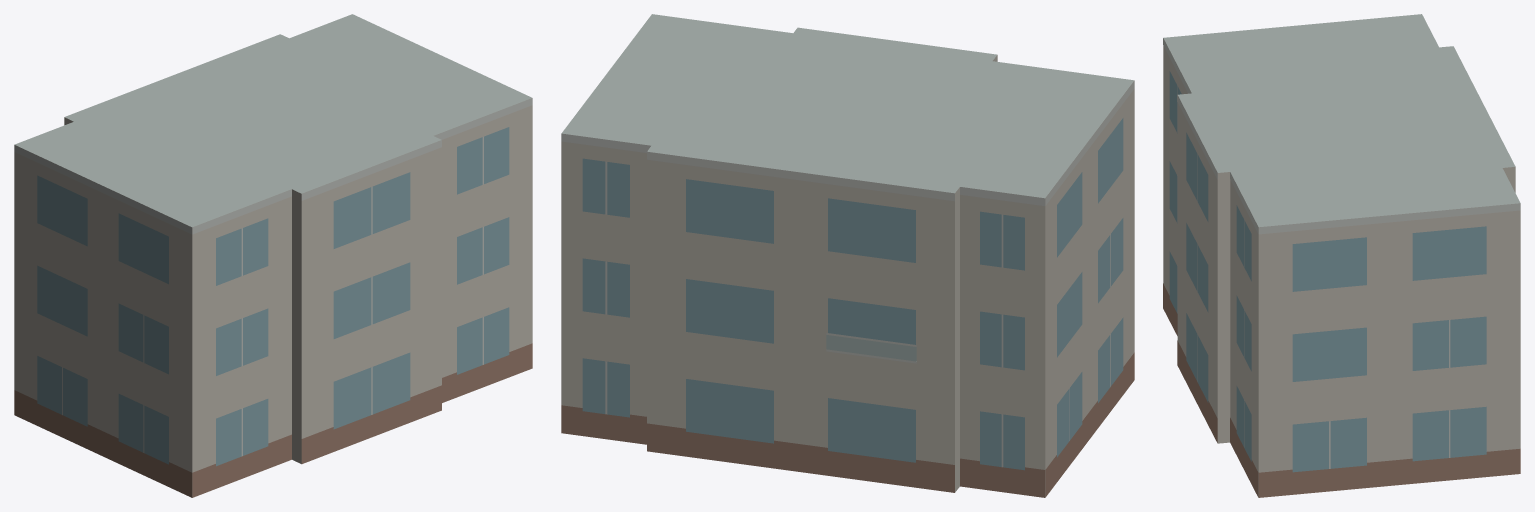
File: survey-upis-32713650.glb
3 renders of one model, left to right at view 1: azimuth 30°, elevation 25°; view 2: azimuth 150°, elevation 25°; view 3: azimuth 270°, elevation 25°, orthographic. The views are drawn at different scales.
Visible parts, largest first — view 1: survey-upis-32713650.tmp; view 2: survey-upis-32713650.tmp; view 3: survey-upis-32713650.tmp.
Boxes of the visible parts, bbox=[...] form: survey-upis-32713650.tmp: bbox=[14, 14, 532, 497]; survey-upis-32713650.tmp: bbox=[561, 14, 1134, 497]; survey-upis-32713650.tmp: bbox=[1163, 14, 1520, 497].
Bounding box in the file's own units: 15.47 × 9.15 × 10.96.
